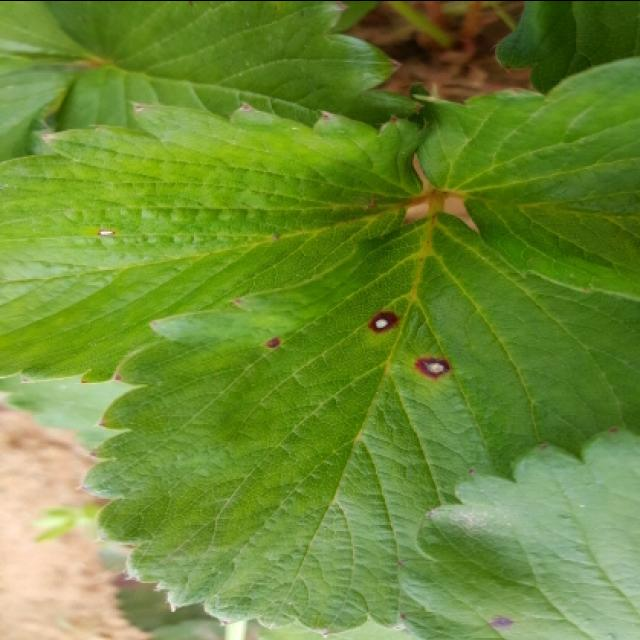Leaf Spot: (75, 210, 638, 637), (0, 98, 431, 385), (398, 429, 638, 638)
